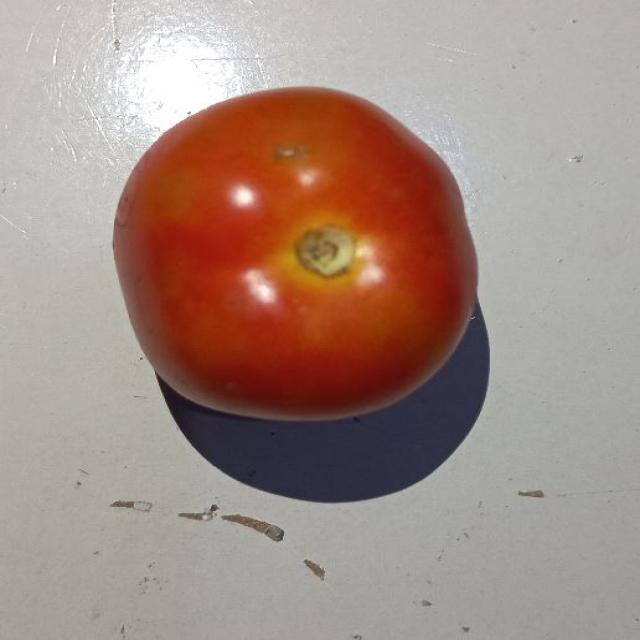ripe tomato: (82, 83, 484, 410)
